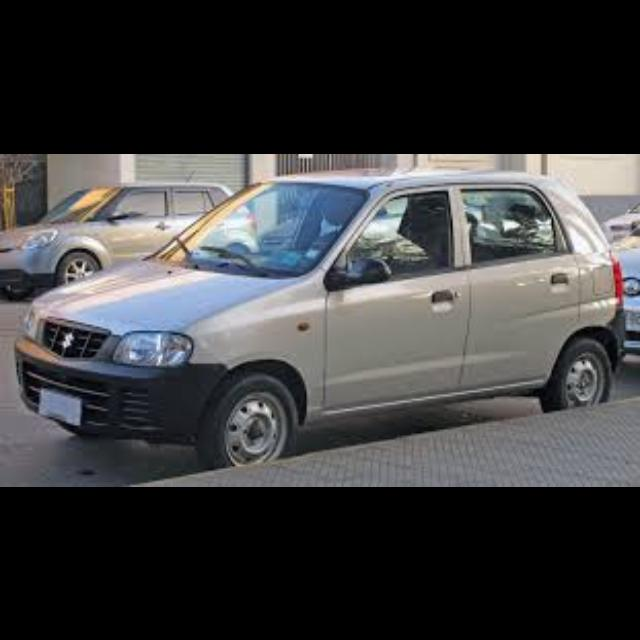vehicles: (20, 165, 622, 462), (0, 179, 238, 292), (609, 227, 640, 363), (600, 194, 640, 242)
